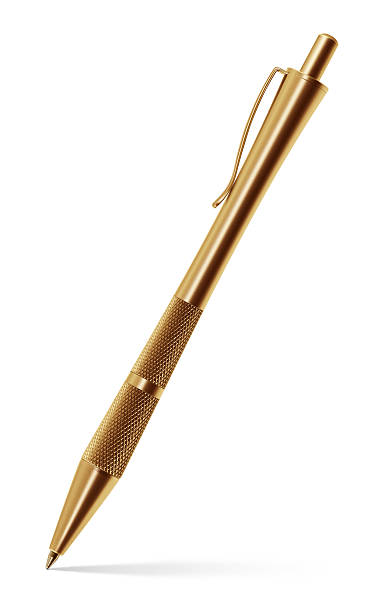pen: (37, 26, 347, 587)
